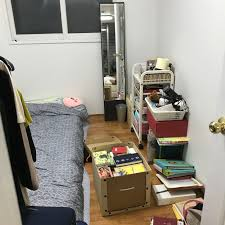Bed: (12, 92, 92, 225)
